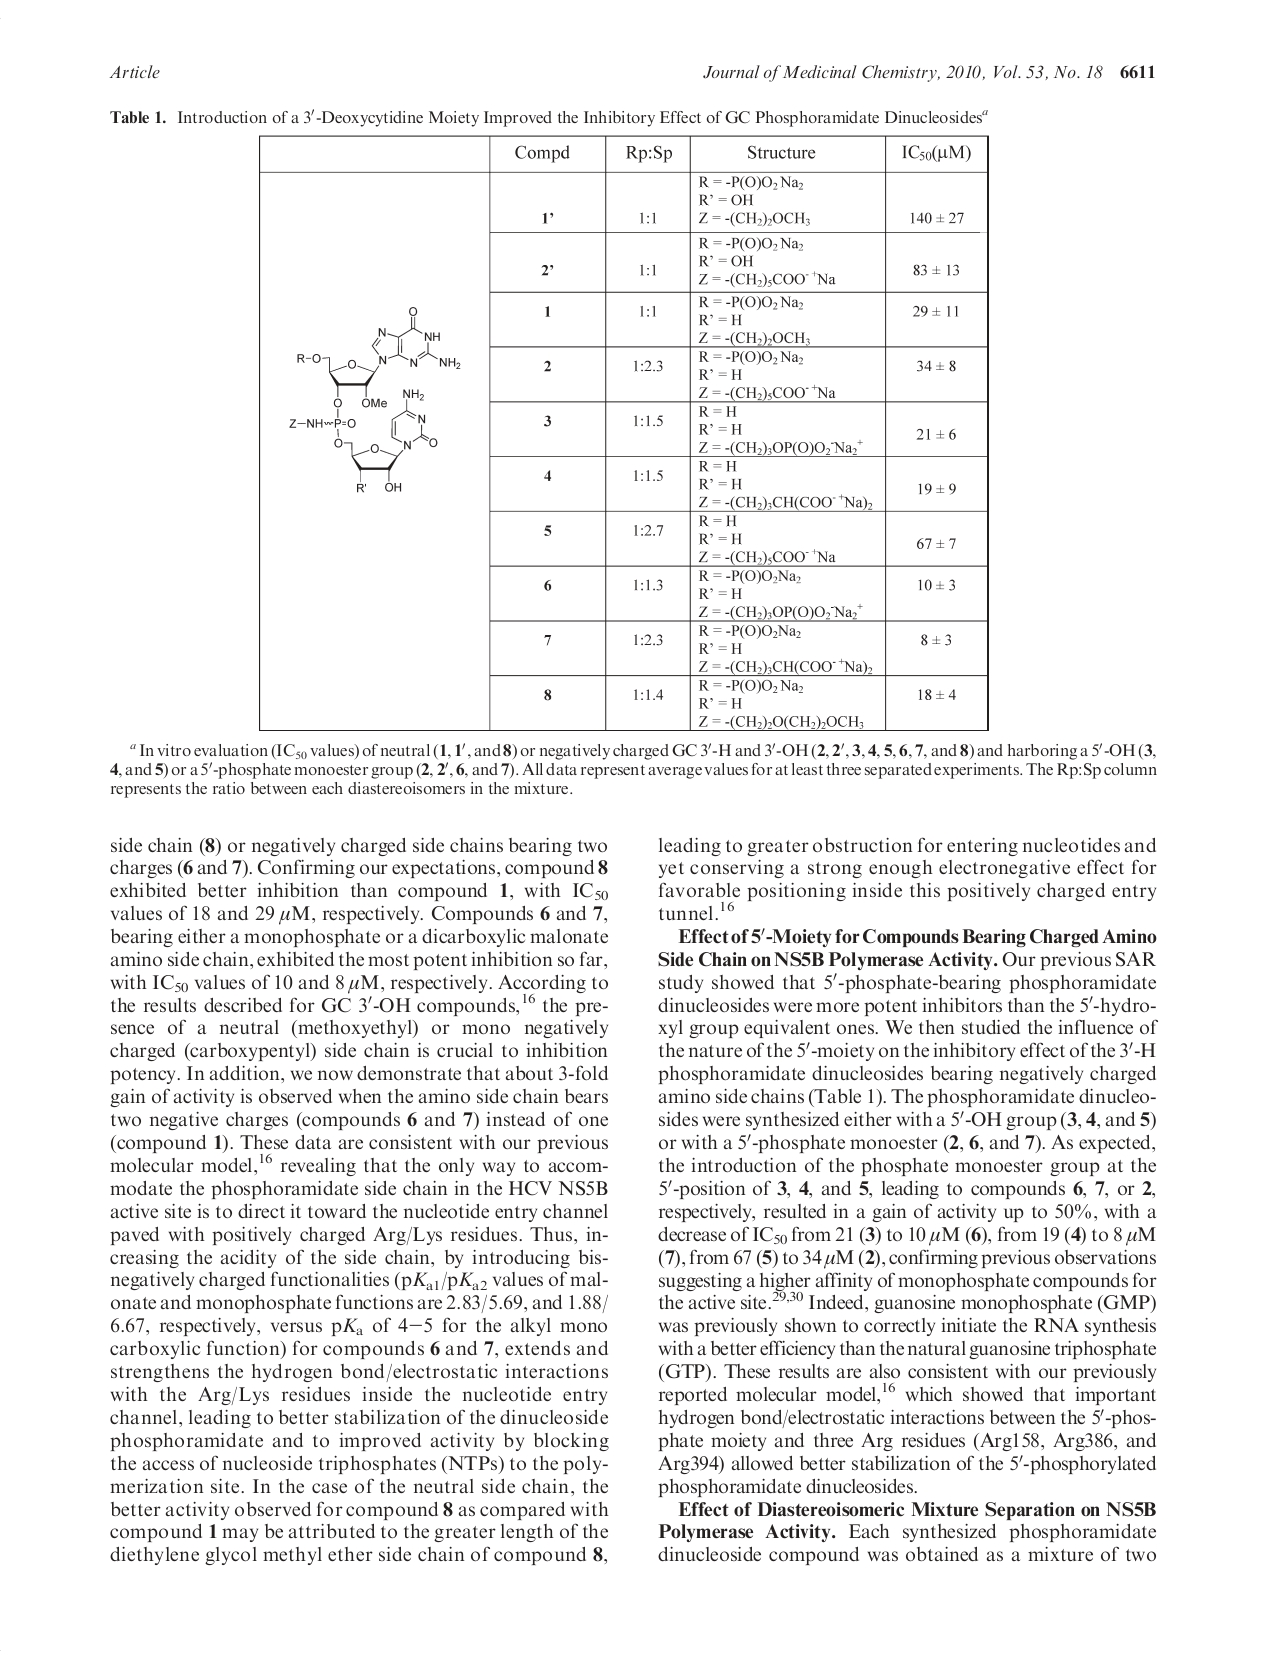exist_molecular: (289, 301, 463, 496)
